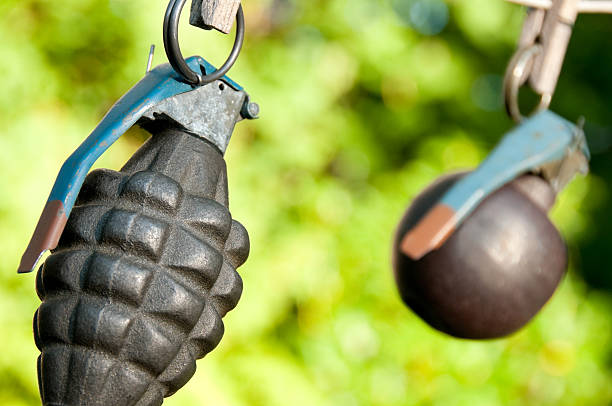e1: (34, 1, 249, 406), (391, 47, 592, 335)
